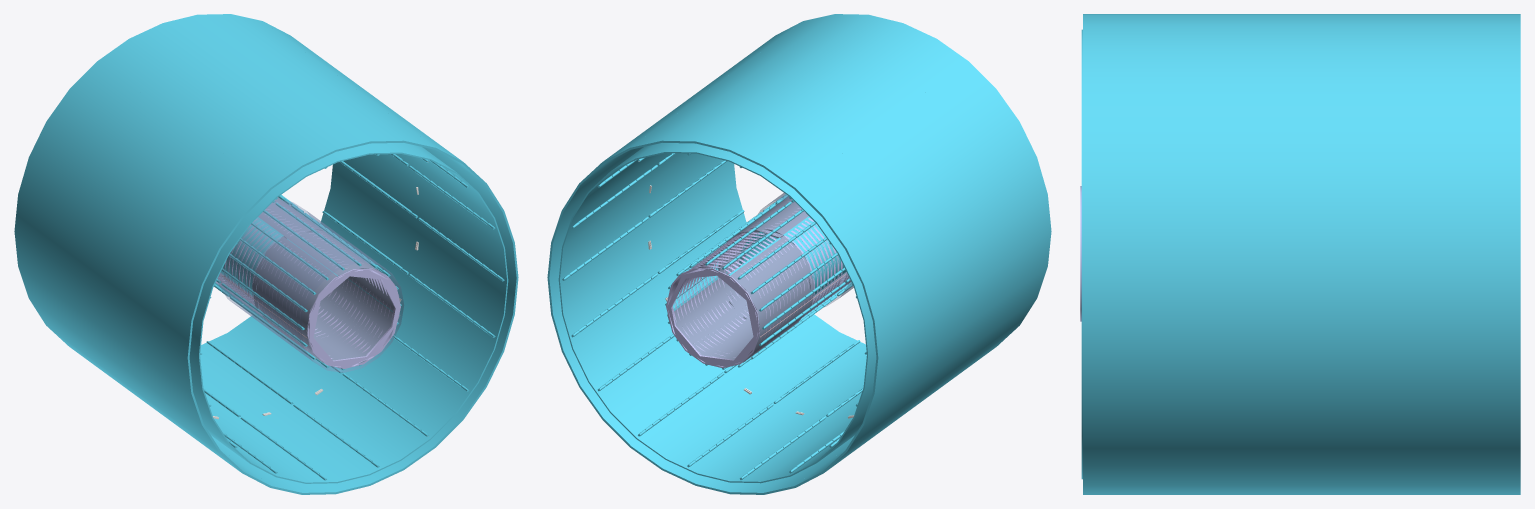
Rendered from tpc.glb.
3 views of the same model, side by side, from view 1: azimuth 30°, elevation 25°; view 2: azimuth 150°, elevation 25°; view 3: azimuth 270°, elevation 25° (orthographic). The views are drawn at different scales.
Visible parts, largest first — view 1: TPC_OCV1_3.001, TPC_OCV1_2.001, TPC_OFC1_6.001, TPC_OFC1_5.001, TPC_OCV1_4.001, TPC_Strip_1.001, TPC_OFC1_1.001, TPC_IFC4_1.007, TPC_IFC4_1.011, TPC_OCV1_1.001, TPC_OCV1_5.001, TPC_IFC4_1.003 (+8 smaller); view 2: TPC_OCV1_3.001, TPC_OCV1_2.001, TPC_OFC1_6.001, TPC_OFC1_5.001, TPC_OCV1_4.001, TPC_OFC1_1.001, TPC_IFC4_1.005, TPC_IFC4_1.009, TPC_OCV1_1.001, TPC_OCV1_5.001, TPC_OCV1_6.001, TPC_IFC1_1.001 (+6 smaller); view 3: TPC_OCV1_1.001, TPC_OCV1_6.001, TPC_OCV1_2.001.
Boxes of the visible parts, x1,y1,x2,y2 form: TPC_OCV1_3.001: (14,61,270,357); TPC_OCV1_2.001: (97,14,435,189); TPC_OFC1_6.001: (320,162,508,438); TPC_OFC1_5.001: (200,315,430,483); TPC_OCV1_4.001: (14,231,270,487); TPC_Strip_1.001: (218,200,403,372); TPC_OFC1_1.001: (344,144,508,280); TPC_IFC4_1.007: (256,239,337,362); TPC_IFC4_1.011: (313,279,399,368); TPC_OCV1_1.001: (264,22,518,277); TPC_OCV1_5.001: (211,435,435,494); TPC_IFC4_1.003: (287,232,399,315); TPC_OCV1_3.001: (795,61,1051,357); TPC_OCV1_2.001: (630,14,968,189); TPC_OFC1_6.001: (558,160,746,438); TPC_OFC1_5.001: (636,314,866,483); TPC_OCV1_4.001: (795,231,1051,487); TPC_OFC1_1.001: (558,144,723,279); TPC_IFC4_1.005: (729,239,810,361); TPC_IFC4_1.009: (667,278,753,367); TPC_OCV1_1.001: (547,22,801,277); TPC_OCV1_5.001: (630,435,854,494); TPC_OCV1_6.001: (547,271,638,447); TPC_IFC1_1.001: (667,269,758,366); TPC_OCV1_1.001: (1083,116,1520,356); TPC_OCV1_6.001: (1083,357,1520,494); TPC_OCV1_2.001: (1083,14,1520,115).
Size of the model in its own units: 556 by 553 by 507.
